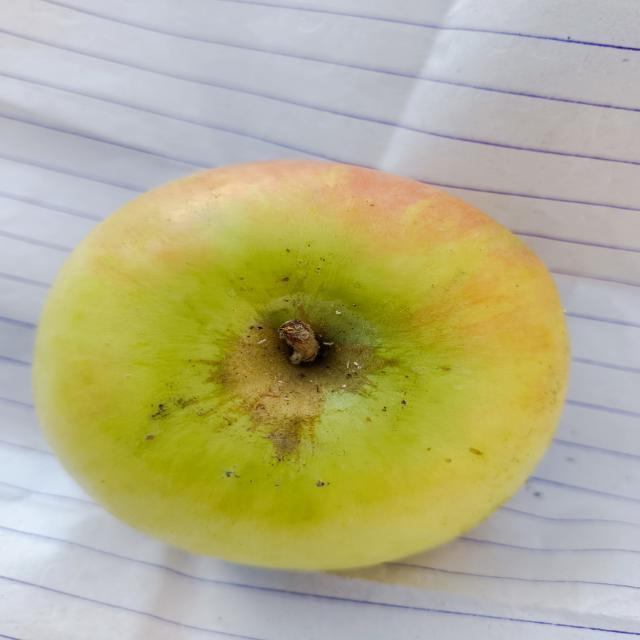Fresh Apple: (29, 155, 574, 579)
